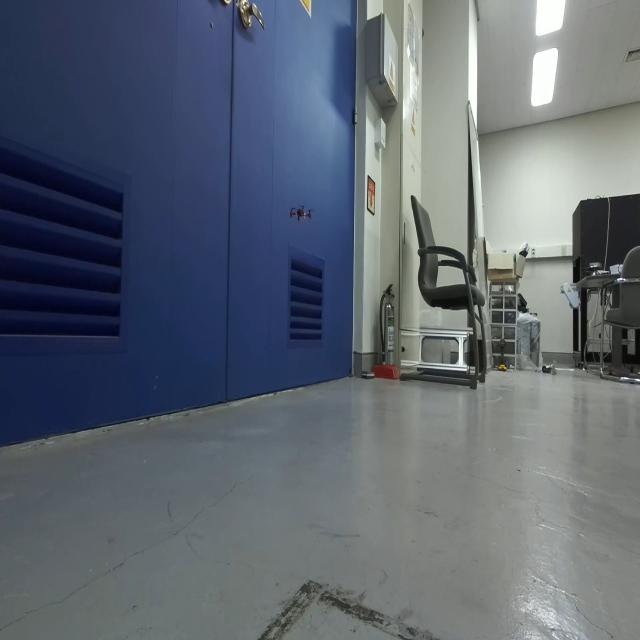crazyflie: (287, 195, 317, 230)
